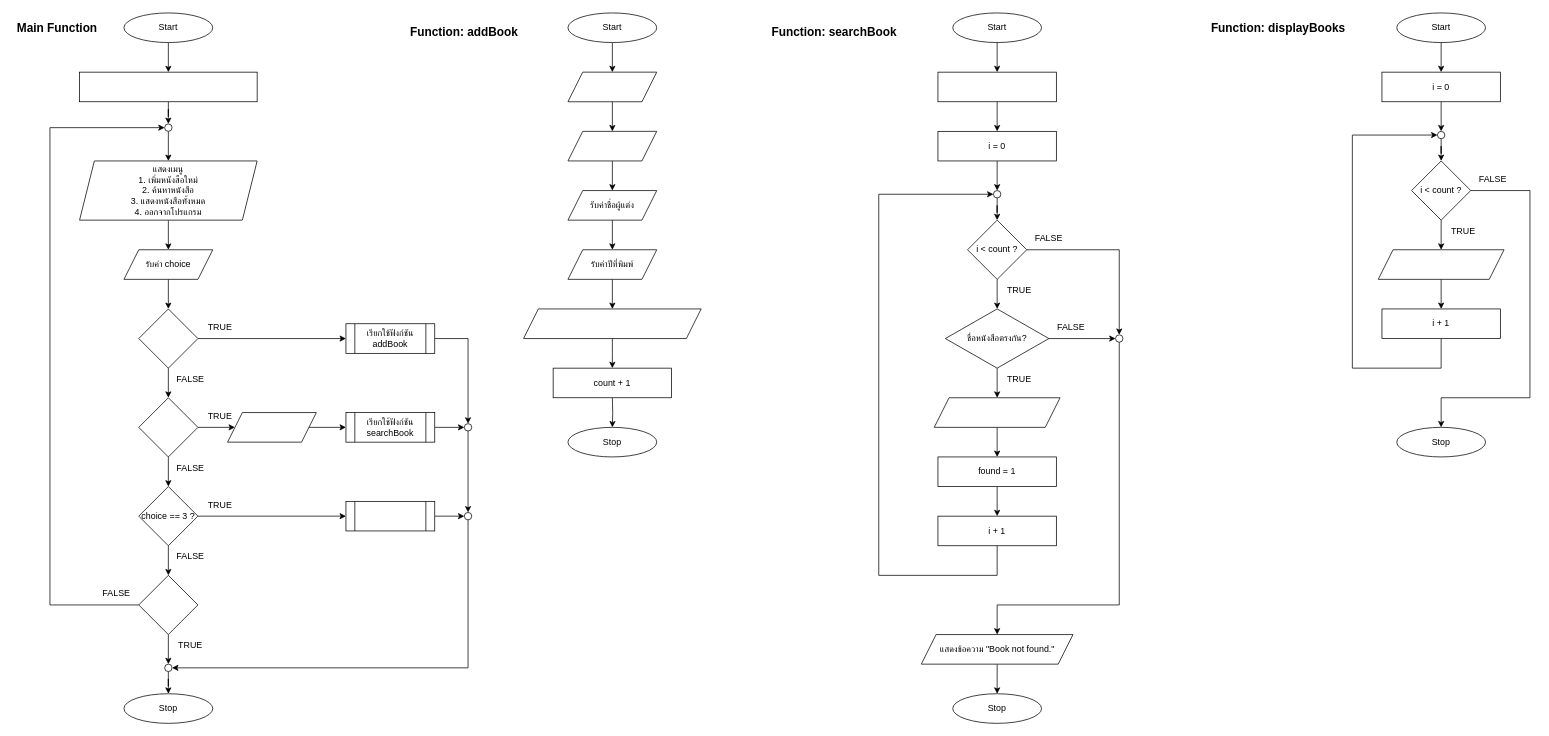
Image size: 1549x736. Some labels were removed from this diagram. Each missing label, with the centre of its shape:
choice == 1 ?: the point at 168,338
choice == 2 ?: the point at 168,427
choice == 4 ?: the point at 168,605
ประกาศตัวแปร choice, count = 0, books[50], searchbook[50]: the point at 168,86
ประกาศตัวแปร found = 0 , i: the point at 996,86
รับค่า ID หนังสือ: the point at 612,86
รับค่าชื่อหนังสือ: the point at 612,146
รับค่าชื่อหนังสือที่ต้องการค้นหา: the point at 271,427
เรียกใช้ฟังก์ชัน displayBooks: the point at 390,516
แสดงข้อความ "Book added successfully!": the point at 612,323
แสดงข้อมูลหนังสือ books[i]: the point at 1441,264
แสดงข้อมูลหนังสือที่พบ: the point at 997,412
